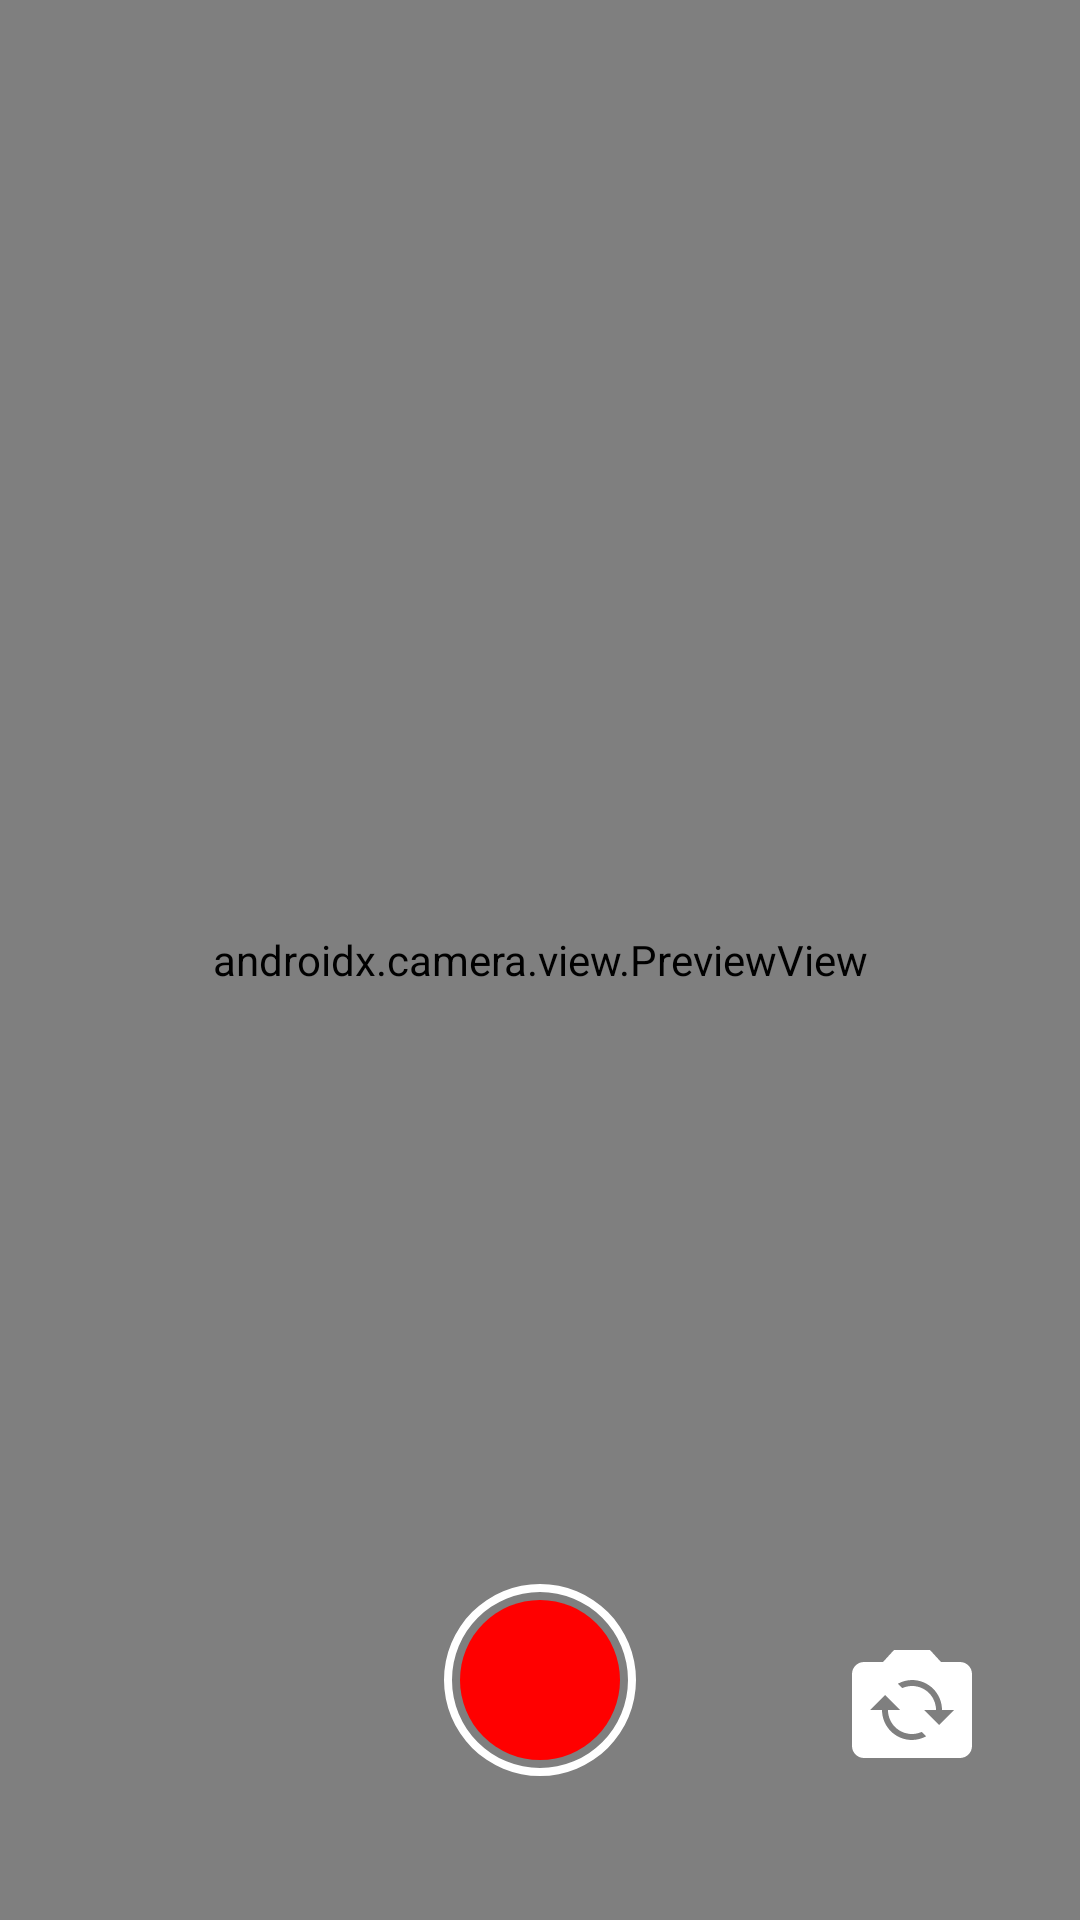

Screen size 1080 x 1920. Icon name, then its box in pixels as (x1, y1, x2, y2):
Capture: (444, 1584, 636, 1776)
Switch: (852, 1650, 972, 1758)
